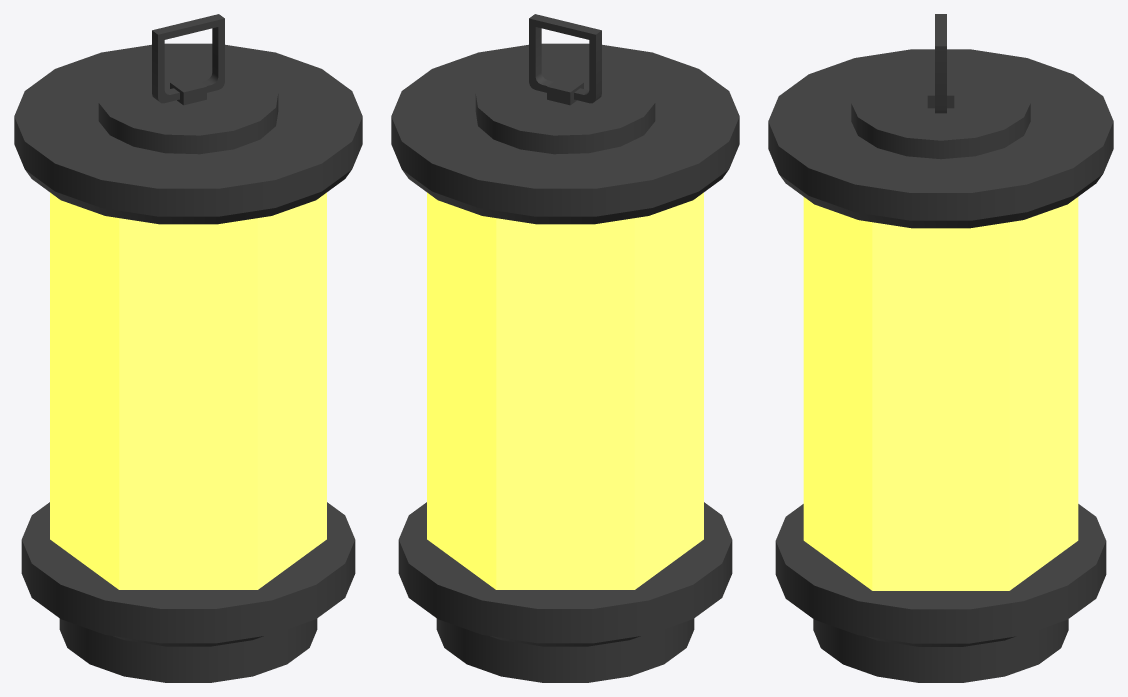
File: linterna.fbx
3 renders of one model, left to right at view 1: azimuth 30°, elevation 25°; view 2: azimuth 150°, elevation 25°; view 3: azimuth 270°, elevation 25°, orthographic.
Visible parts, largest first — view 1: Linterna; view 2: Linterna; view 3: Linterna.
Part boxes in pixels (x1,y1,x2,y2): Linterna: [14, 14, 362, 682]; Linterna: [391, 14, 739, 682]; Linterna: [768, 14, 1113, 682].
Size of the model in its own units: 83.71 by 163 by 85.
